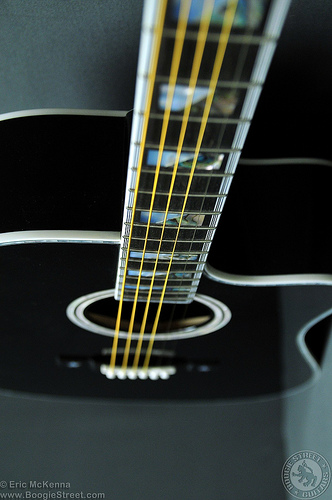guitar: (1, 1, 332, 402)
